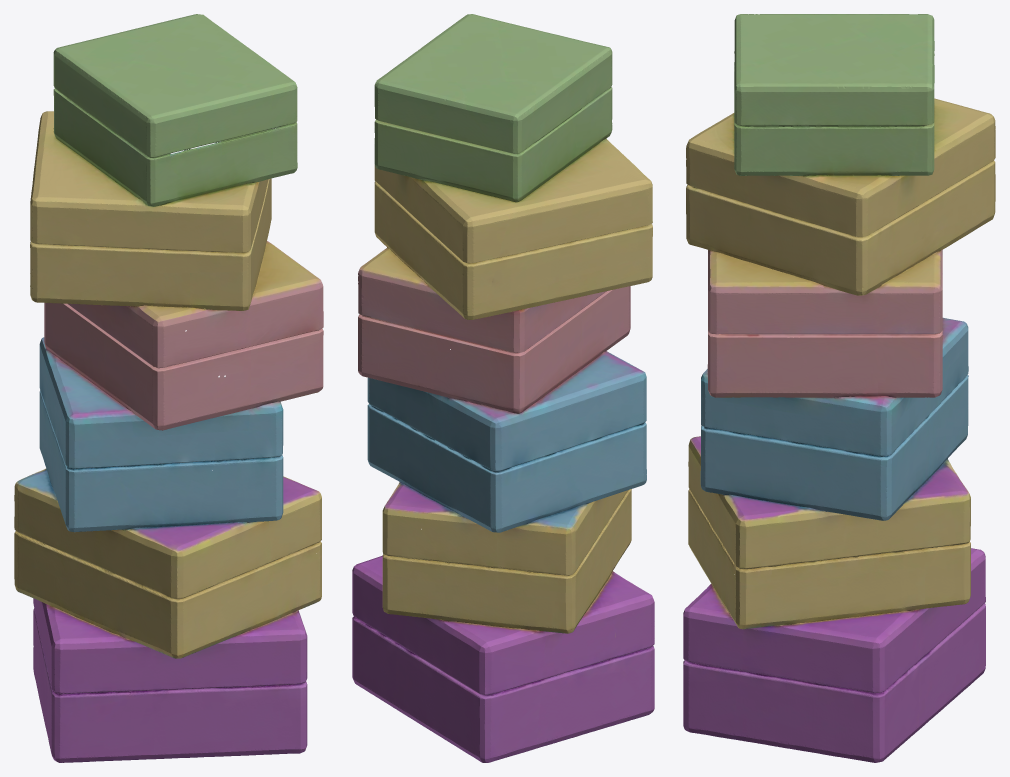
Rendered from kutu_opt.glb.
3 renders of one model, left to right at view 1: azimuth 30°, elevation 25°; view 2: azimuth 150°, elevation 25°; view 3: azimuth 270°, elevation 25°, orthographic. The views are drawn at different scales.
Parts seen in each view (by area): view 1: tripo_node_740c8b52-76d1-49d8-a02f-022d165d0342; view 2: tripo_node_740c8b52-76d1-49d8-a02f-022d165d0342; view 3: tripo_node_740c8b52-76d1-49d8-a02f-022d165d0342.
Boxes of the visible parts, x1,y1,x2,y2 form: tripo_node_740c8b52-76d1-49d8-a02f-022d165d0342: [14, 14, 323, 762]; tripo_node_740c8b52-76d1-49d8-a02f-022d165d0342: [352, 14, 654, 762]; tripo_node_740c8b52-76d1-49d8-a02f-022d165d0342: [683, 14, 995, 762].
Size of the model in its own units: 0.445 by 1 by 0.4315.
1 material, 1 textured.
